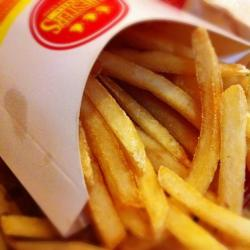fries: (73, 30, 250, 245)
